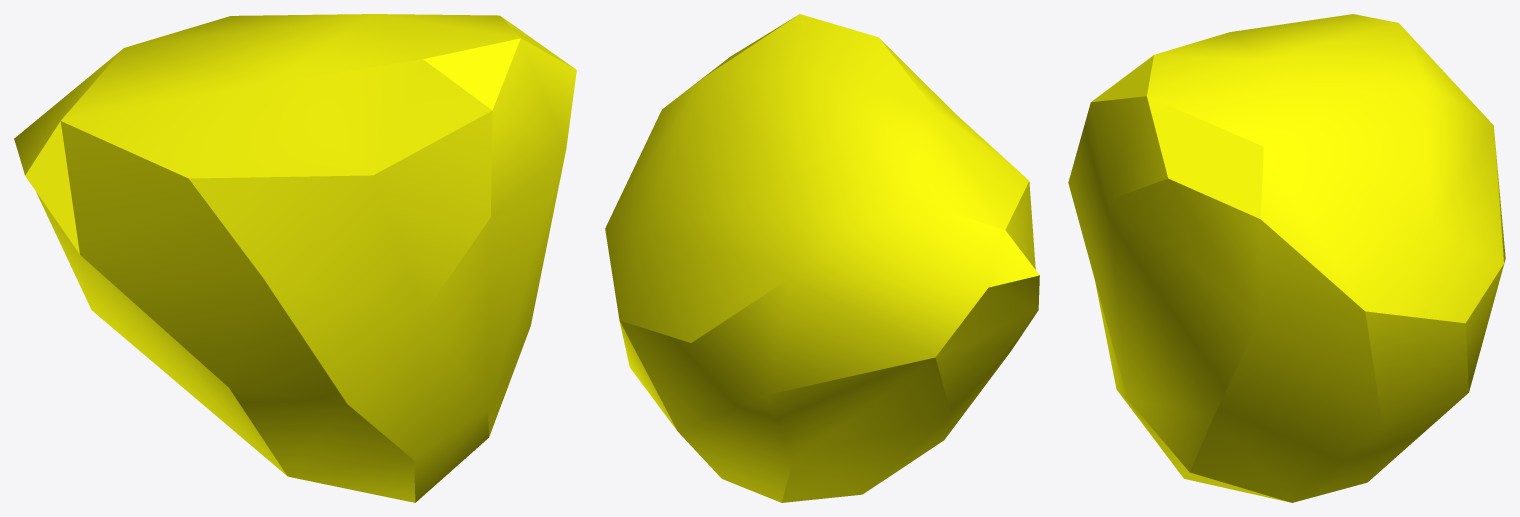
File: kaykit-rock-3-a-color-1.glb
The picture shows the model from 3 angles, left to right: view 1: azimuth 30°, elevation 25°; view 2: azimuth 150°, elevation 25°; view 3: azimuth 270°, elevation 25°; orthographic projection. The views are drawn at different scales.
Parts seen in each view (by area): view 1: Rock_3_A_Color1; view 2: Rock_3_A_Color1; view 3: Rock_3_A_Color1.
Part boxes in pixels (x1,y1,x2,y2): Rock_3_A_Color1: [14, 14, 576, 502]; Rock_3_A_Color1: [605, 14, 1039, 502]; Rock_3_A_Color1: [1068, 14, 1505, 502].
Size of the model in its own units: 0.9563 by 0.8589 by 0.8075.
